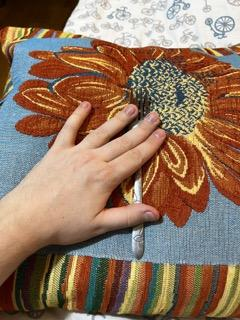fork: (129, 87, 153, 261)
